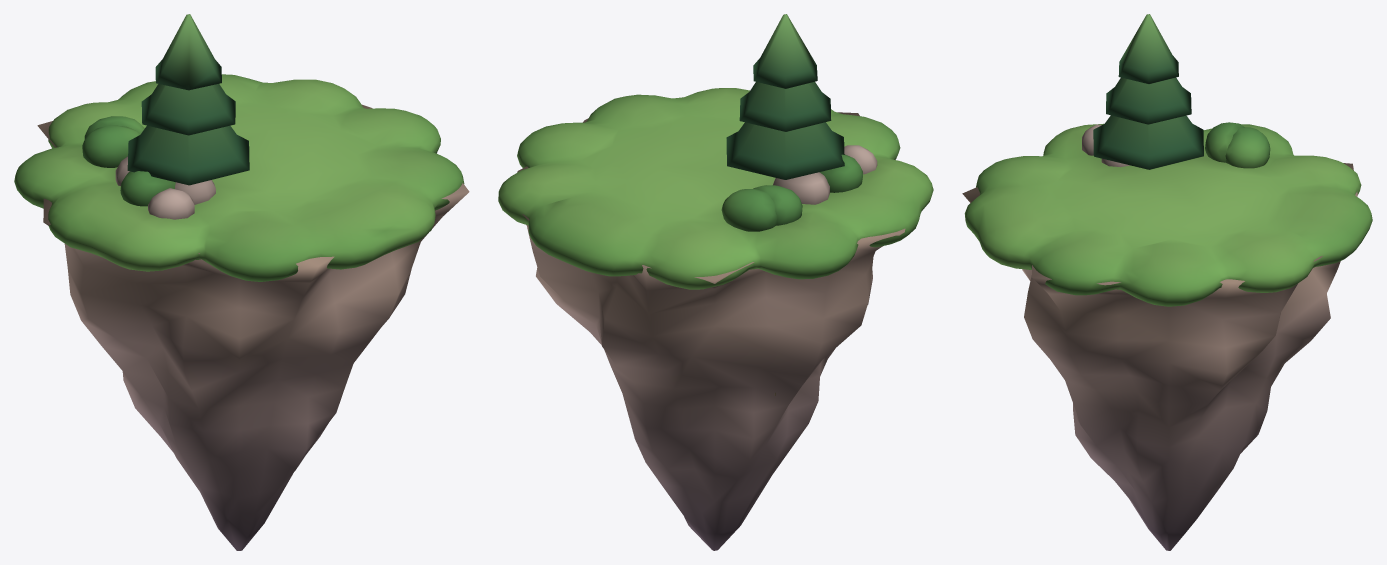
The model's file is env_sky_islet_3.glb.
3 renders of one model, left to right at view 1: azimuth 30°, elevation 25°; view 2: azimuth 150°, elevation 25°; view 3: azimuth 270°, elevation 25°, orthographic. The views are drawn at different scales.
Parts seen in each view (by area): view 1: SM_sky_sky_vc_x0_z0.030; view 2: SM_sky_sky_vc_x0_z0.030; view 3: SM_sky_sky_vc_x0_z0.030.
Part boxes in pixels (x1=…): SM_sky_sky_vc_x0_z0.030: x1=14, y1=14, x2=469, y2=550; SM_sky_sky_vc_x0_z0.030: x1=498, y1=14, x2=933, y2=550; SM_sky_sky_vc_x0_z0.030: x1=962, y1=14, x2=1372, y2=550.
Size of the model in its own units: 7.61 by 10.37 by 7.6.
